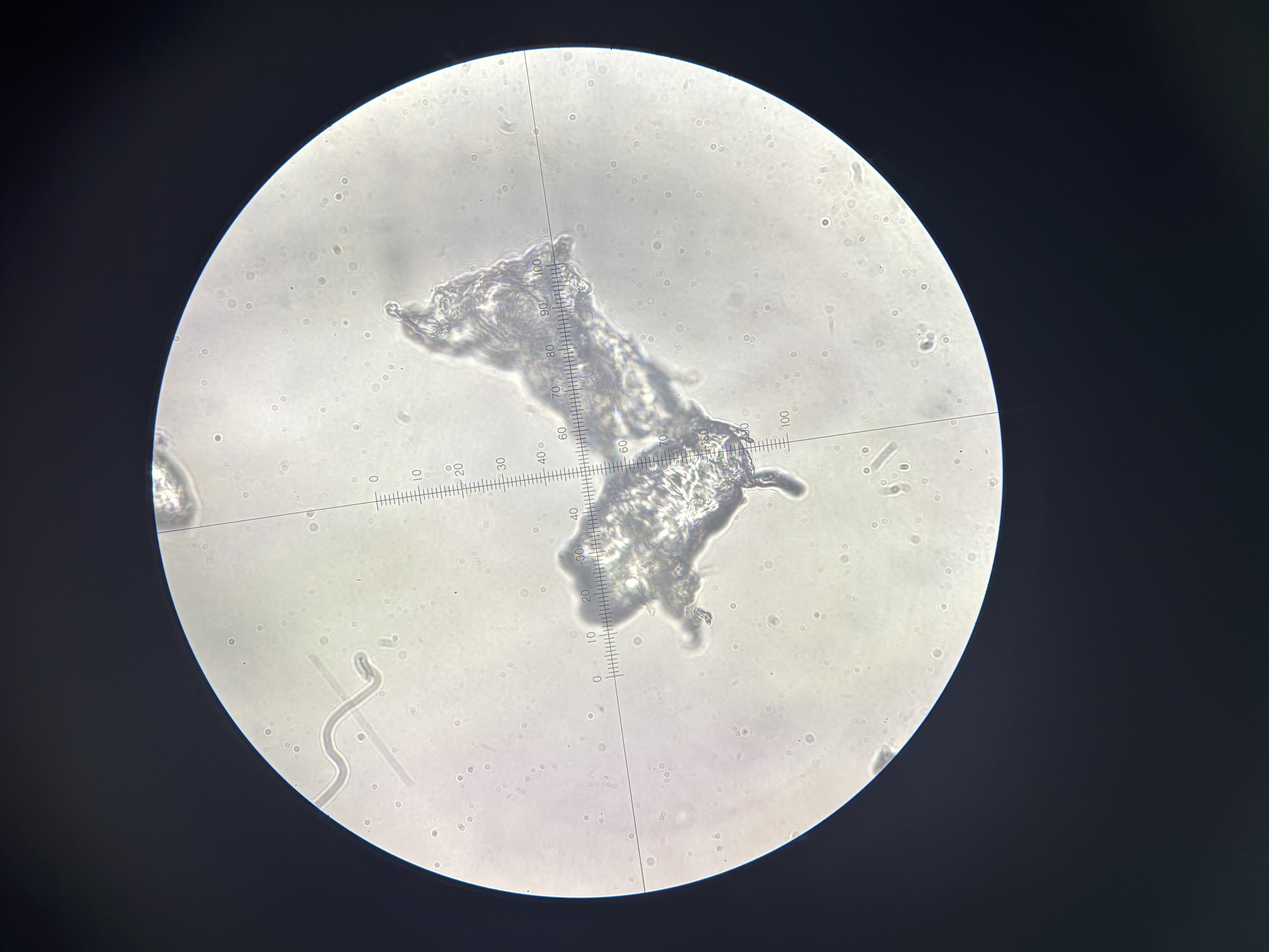microplastic: (377, 230, 813, 658), (148, 428, 202, 532), (869, 741, 900, 776)
